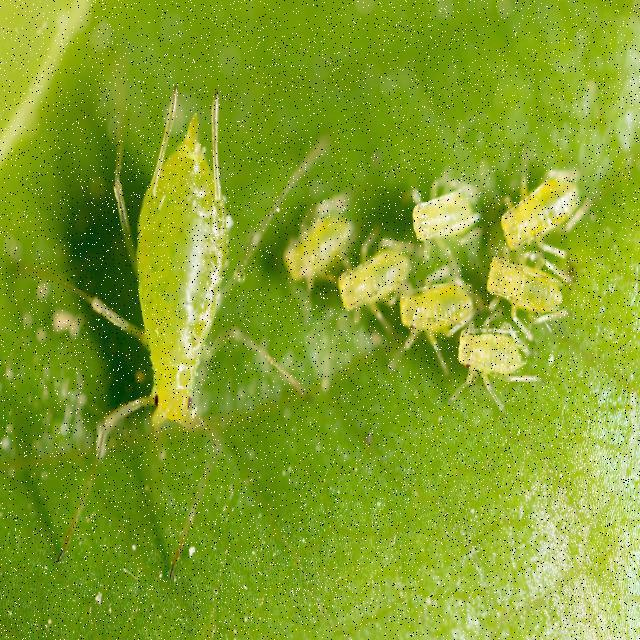Aphids: (72, 67, 271, 614), (495, 141, 618, 268), (236, 183, 358, 292), (376, 268, 494, 371), (392, 157, 510, 253), (324, 219, 413, 331), (469, 235, 568, 335), (454, 306, 539, 398)
